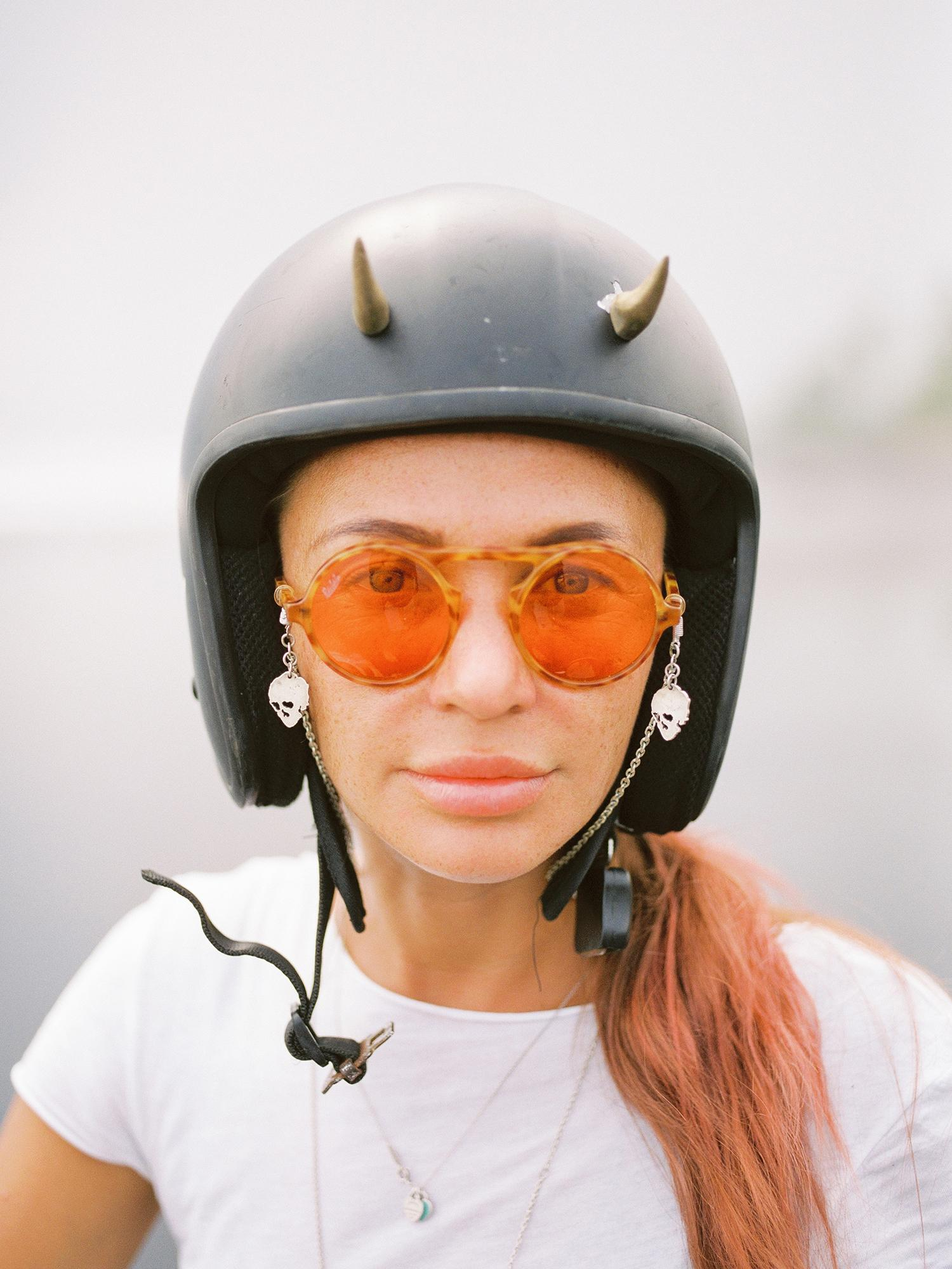helmet: (137, 176, 763, 1098)
